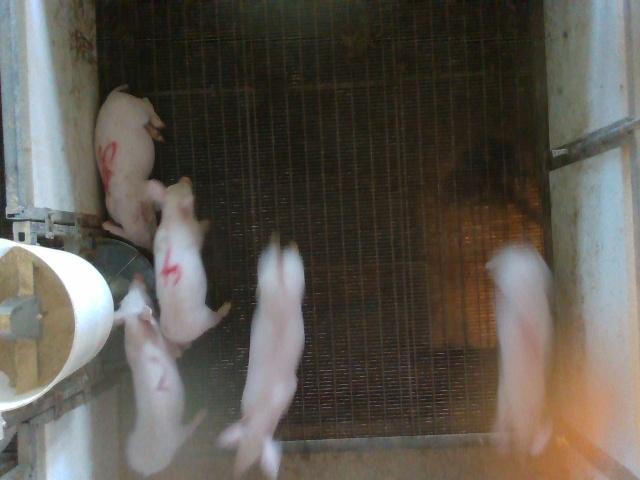pig-1: (486, 245, 552, 454)
pig-2: (115, 275, 205, 476)
pig-4: (148, 178, 231, 346)
pig-5: (95, 85, 164, 249)
